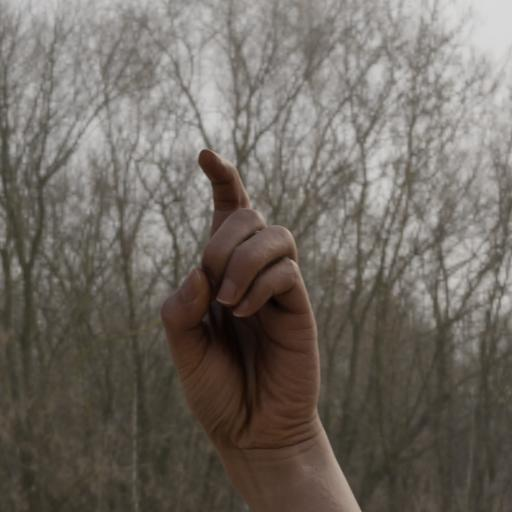X: (150, 139, 335, 470)
